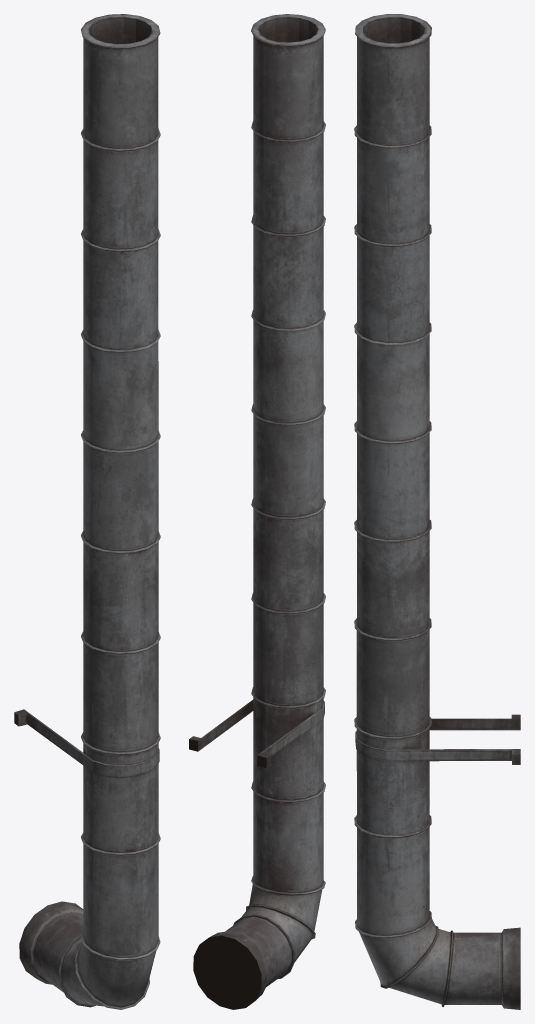
Rendered from Chimney_A.fbx.
3 views of the same model, side by side, from view 1: azimuth 30°, elevation 25°; view 2: azimuth 150°, elevation 25°; view 3: azimuth 270°, elevation 25° (orthographic). The views are drawn at different scales.
Visible parts, largest first — view 1: Chimney_A; view 2: Chimney_A; view 3: Chimney_A.
Part boxes in pixels (x1=…): Chimney_A: x1=14, y1=14, x2=160, y2=1009; Chimney_A: x1=189, y1=14, x2=325, y2=1009; Chimney_A: x1=354, y1=14, x2=520, y2=1009.
Bounding box in the file's own units: 30.09 × 346 × 53.5.
1 material, 1 textured.
